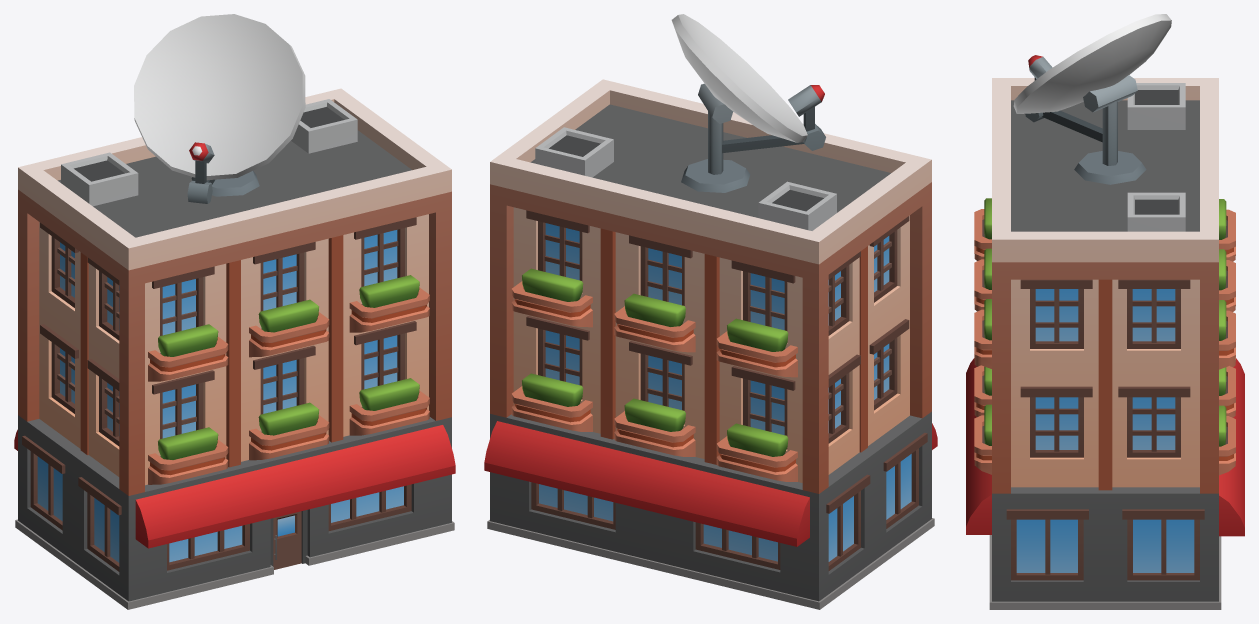
File: residental_building_010.glb
3 views of the same model, side by side, from view 1: azimuth 30°, elevation 25°; view 2: azimuth 150°, elevation 25°; view 3: azimuth 270°, elevation 25° (orthographic). The views are drawn at different scales.
Visible parts, largest first — view 1: residental_building_010; view 2: residental_building_010; view 3: residental_building_010.
Part boxes in pixels (x1,y1,x2,y2): residental_building_010: (14,14,455,609); residental_building_010: (484,14,937,609); residental_building_010: (966,14,1244,609).
Size of the model in its own units: 13.43 by 19.52 by 9.61.
1 material, 1 textured.
